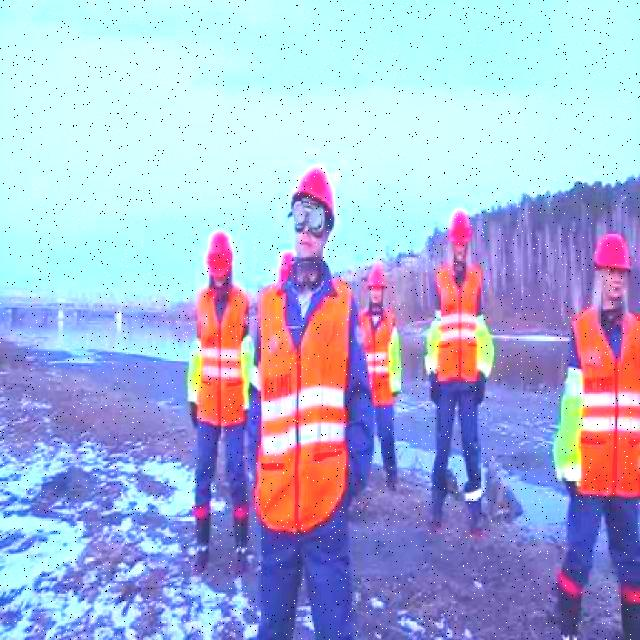Gloves: (566, 476, 580, 510), (478, 370, 486, 404), (190, 398, 198, 428)
Helmet: (288, 166, 337, 219), (592, 232, 631, 270), (205, 230, 232, 275), (448, 209, 470, 246), (368, 262, 386, 290), (279, 250, 293, 276)
Mask: (251, 260, 374, 640), (553, 304, 638, 640), (256, 274, 347, 530), (426, 258, 494, 530), (191, 282, 252, 576), (570, 304, 638, 498), (356, 302, 404, 489), (195, 282, 248, 427), (434, 260, 480, 386), (358, 306, 396, 408)
